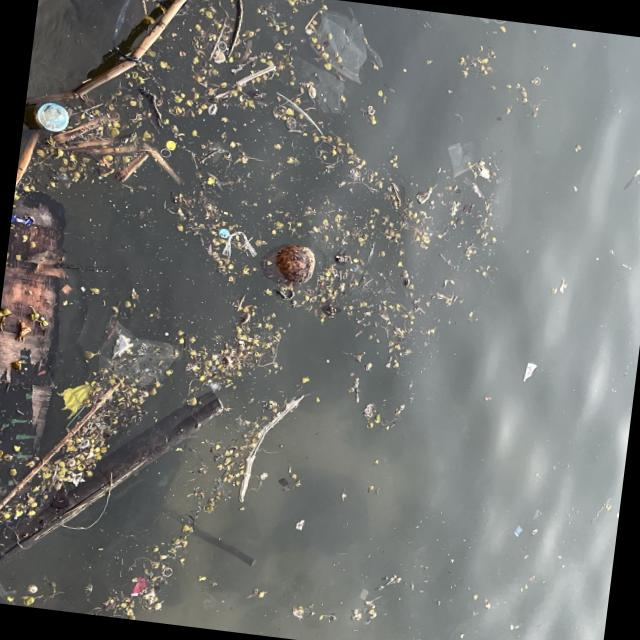plastic bottle: (304, 5, 386, 86), (93, 321, 182, 390), (280, 56, 350, 114), (52, 378, 98, 422), (441, 136, 478, 180), (30, 100, 70, 132), (220, 228, 259, 260), (0, 561, 18, 604), (522, 362, 536, 383), (467, 16, 495, 25)
